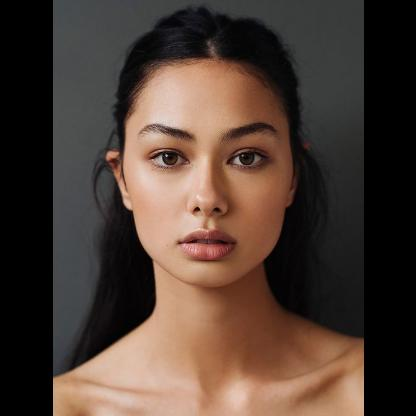Female: (106, 60, 302, 286)
